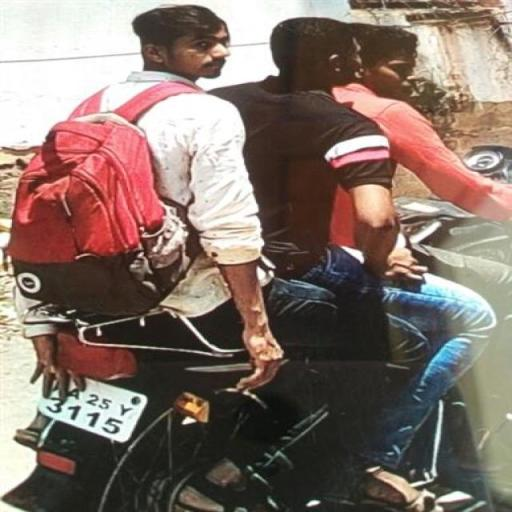tripple riding: (5, 4, 512, 269)
